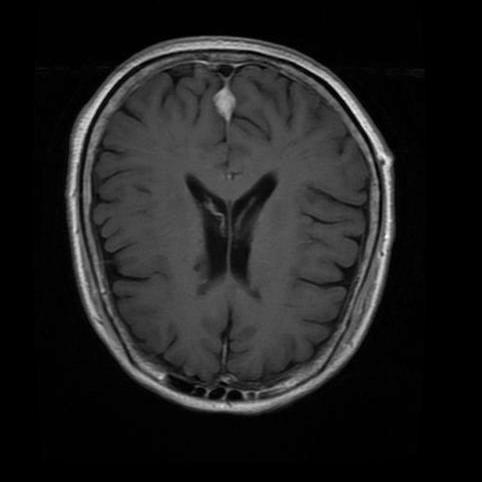Tumour-Meningioma: (203, 75, 260, 132)
